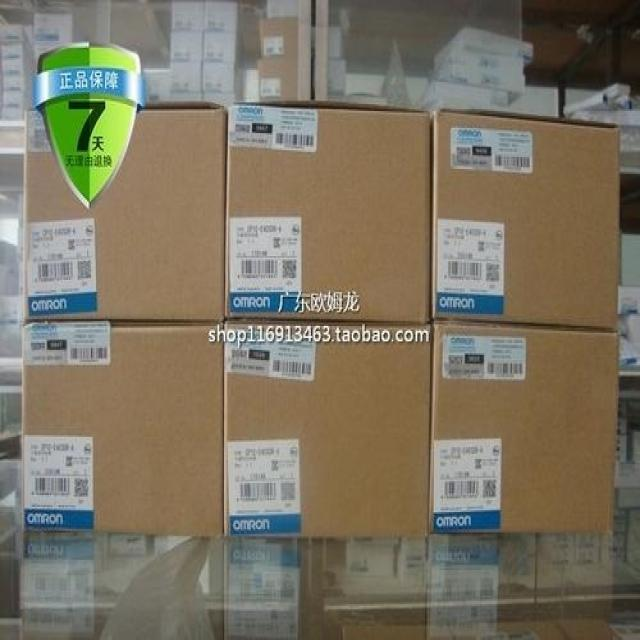box: (225, 101, 431, 324), (224, 321, 433, 539), (24, 101, 228, 323), (22, 323, 225, 538), (430, 108, 620, 331), (429, 326, 620, 538), (20, 532, 225, 640), (223, 538, 430, 640), (428, 532, 617, 638), (415, 27, 534, 113), (170, 0, 238, 104), (260, 17, 300, 102), (0, 24, 33, 119), (35, 14, 73, 70), (507, 87, 559, 116), (617, 234, 640, 287), (143, 68, 172, 102), (236, 67, 262, 102)
